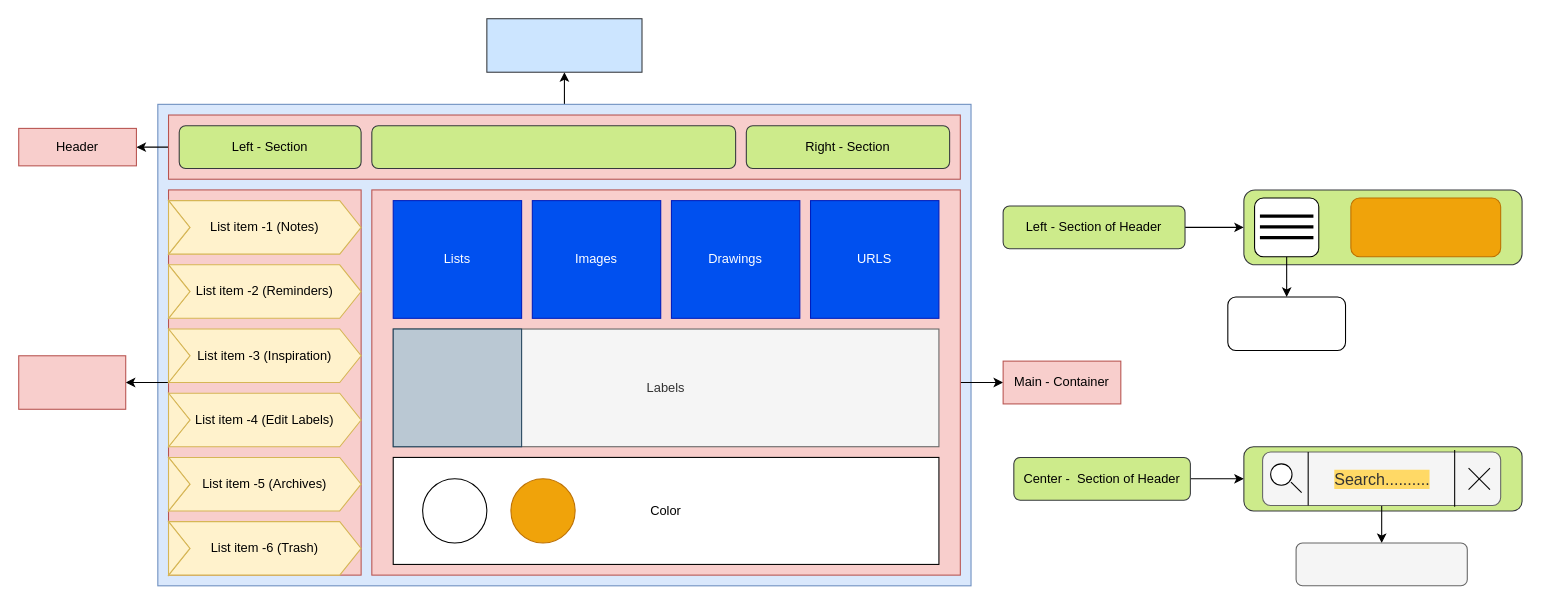
Some shapes in this 1541 by 605 pixel diagram are drawn without their labels. Here are the shapes that lost their labels. From the top down, the centre of each, then its label:
pixel 564 45: Main Content
pixel 553 147: Center - Section
pixel 1425 227: Google Keep Logo
pixel 1286 323: Ham - Burger Menu
pixel 72 382: Menu Bar
pixel 457 387: Works
pixel 1381 564: Search Bar
